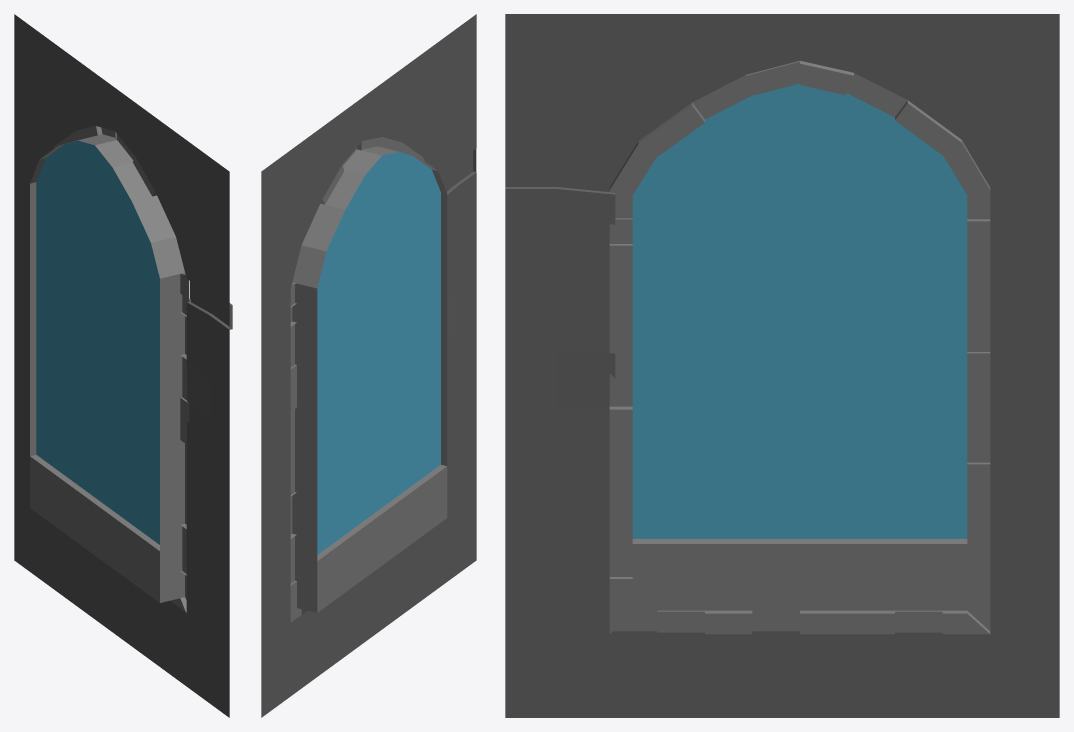
The model's file is FenêtreCourbSansRebord.glb.
The picture shows the model from 3 angles, left to right: view 1: azimuth 30°, elevation 25°; view 2: azimuth 150°, elevation 25°; view 3: azimuth 270°, elevation 25°; orthographic projection. The views are drawn at different scales.
Parts seen in each view (by area): view 1: EmpacementFenêtreCourb; view 2: EmpacementFenêtreCourb; view 3: EmpacementFenêtreCourb.
Boxes of the visible parts, box(x1,y1,x2,y2) form: EmpacementFenêtreCourb: box(14, 14, 232, 717); EmpacementFenêtreCourb: box(261, 14, 476, 717); EmpacementFenêtreCourb: box(505, 14, 1059, 717).
Size of the model in its own units: 0.0865 by 1.8 by 1.28.
